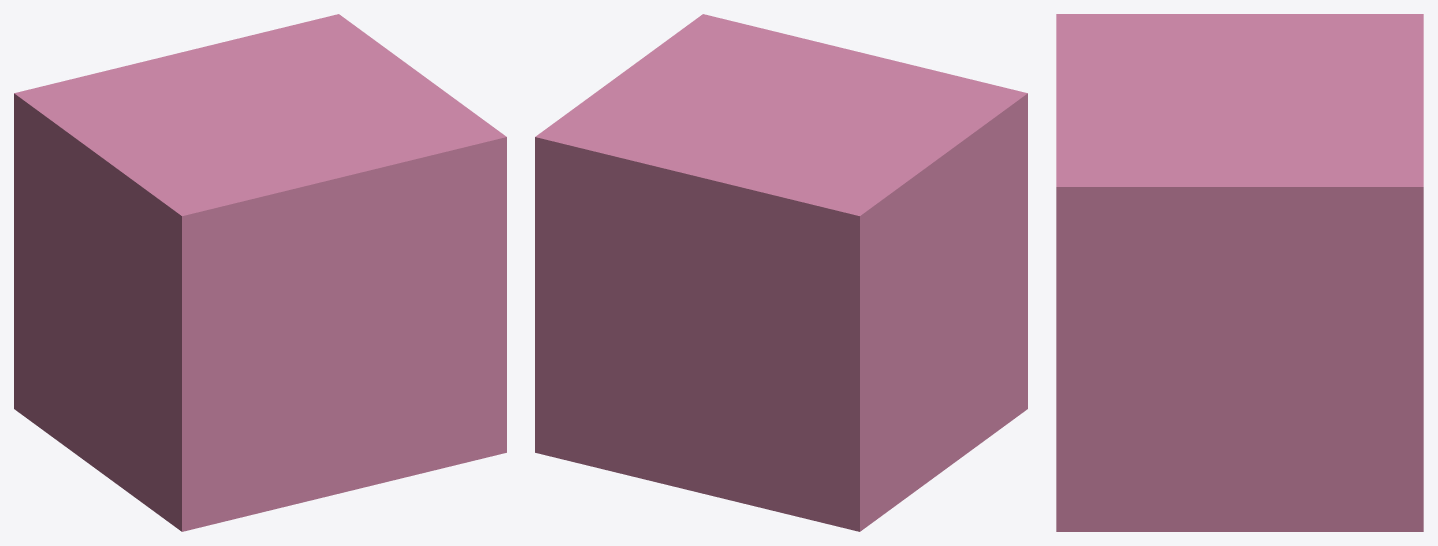
File: tree_oak_bush_a.dae
3 views of the same model, side by side, from view 1: azimuth 30°, elevation 25°; view 2: azimuth 150°, elevation 25°; view 3: azimuth 270°, elevation 25° (orthographic). The views are drawn at different scales.
Parts seen in each view (by area): view 1: Untitled; view 2: Untitled; view 3: Untitled.
Boxes of the visible parts, left/top/right/bottom form: Untitled: left=14, top=14, right=506, bottom=531; Untitled: left=535, top=14, right=1027, bottom=531; Untitled: left=1056, top=14, right=1423, bottom=531.
Size of the model in its own units: 2.04 by 1.82 by 1.89.
